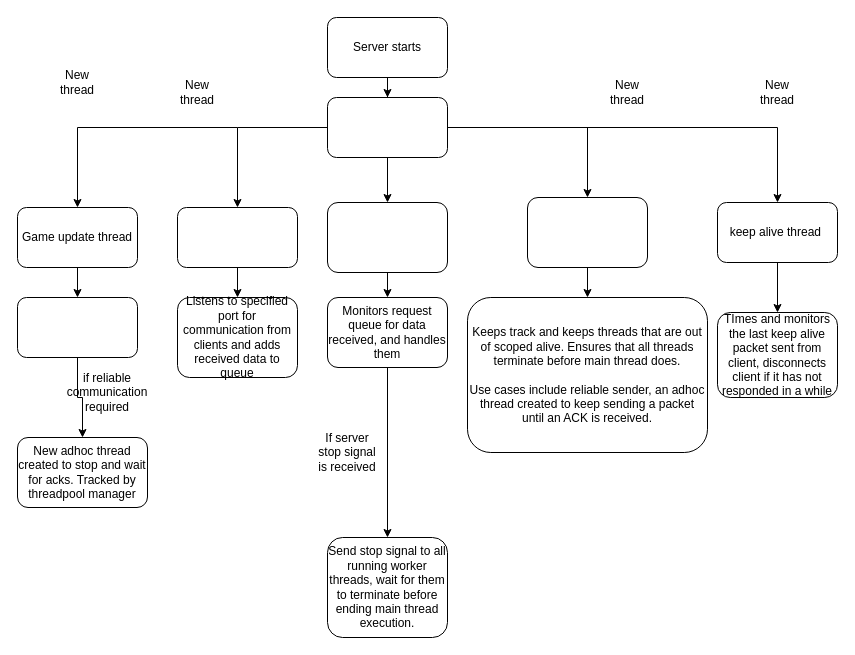
Some shapes in this 855 by 655 pixel diagram are drawn without their labels. The shapes that lost their labels are listed below. From the top down, each one's centre as x and y in pixels, then its label:
At (387,127): "Winsock intialization".
At (237,237): "Listener thread startup".
At (387,237): "Requestion listener thread startup".
At (587,232): "Threadpool manager thread".
At (77,327): "Updates game while game is running".
